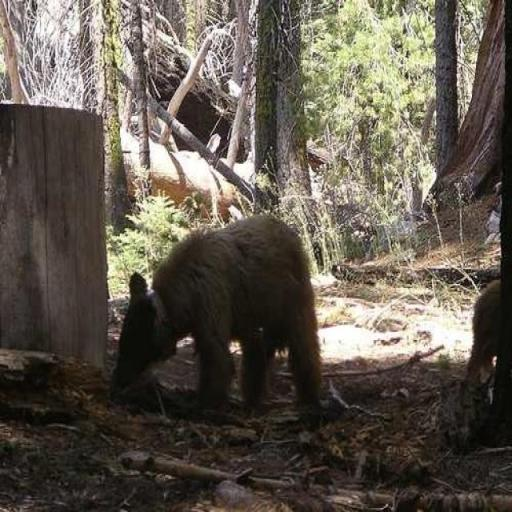Bear: (114, 212, 322, 416)
